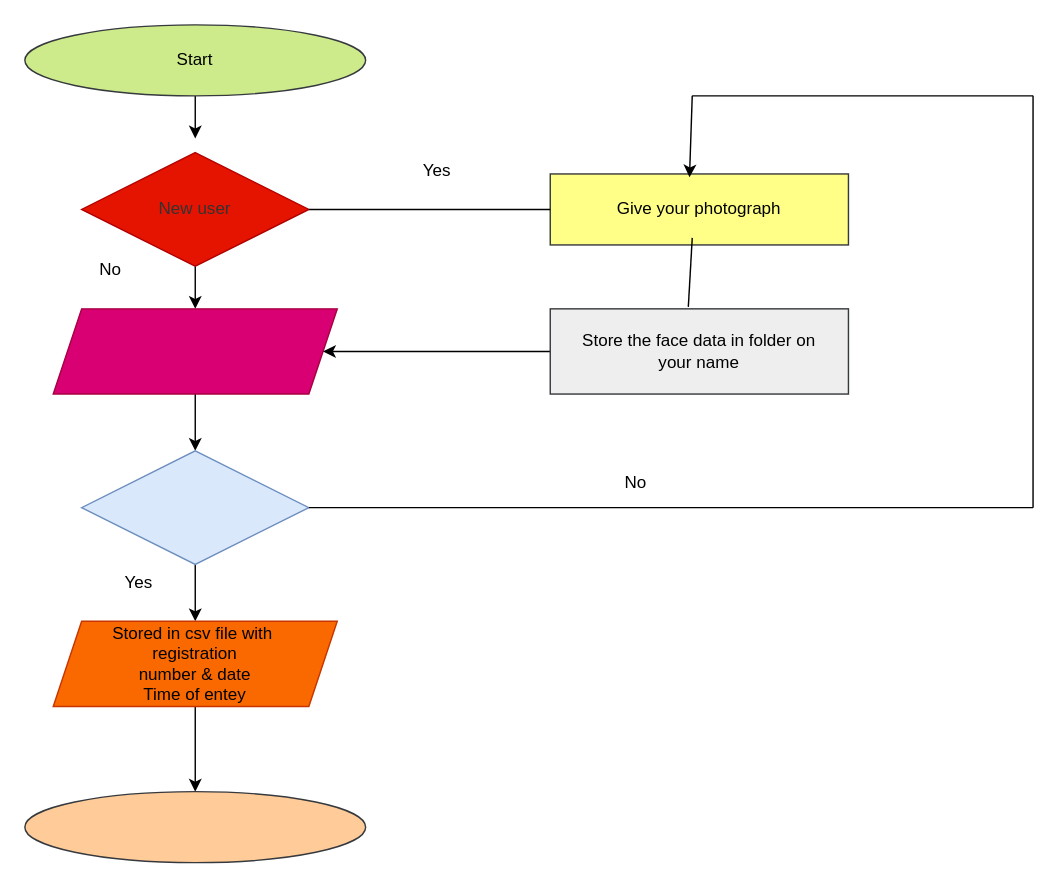
Image size: 1059x888. Some labels were removed from this diagram. Each missing label, with the centre of its shape:
End: pixel 194 826
Face Recognized: pixel 194 506
Recognize the face: pixel 194 350
